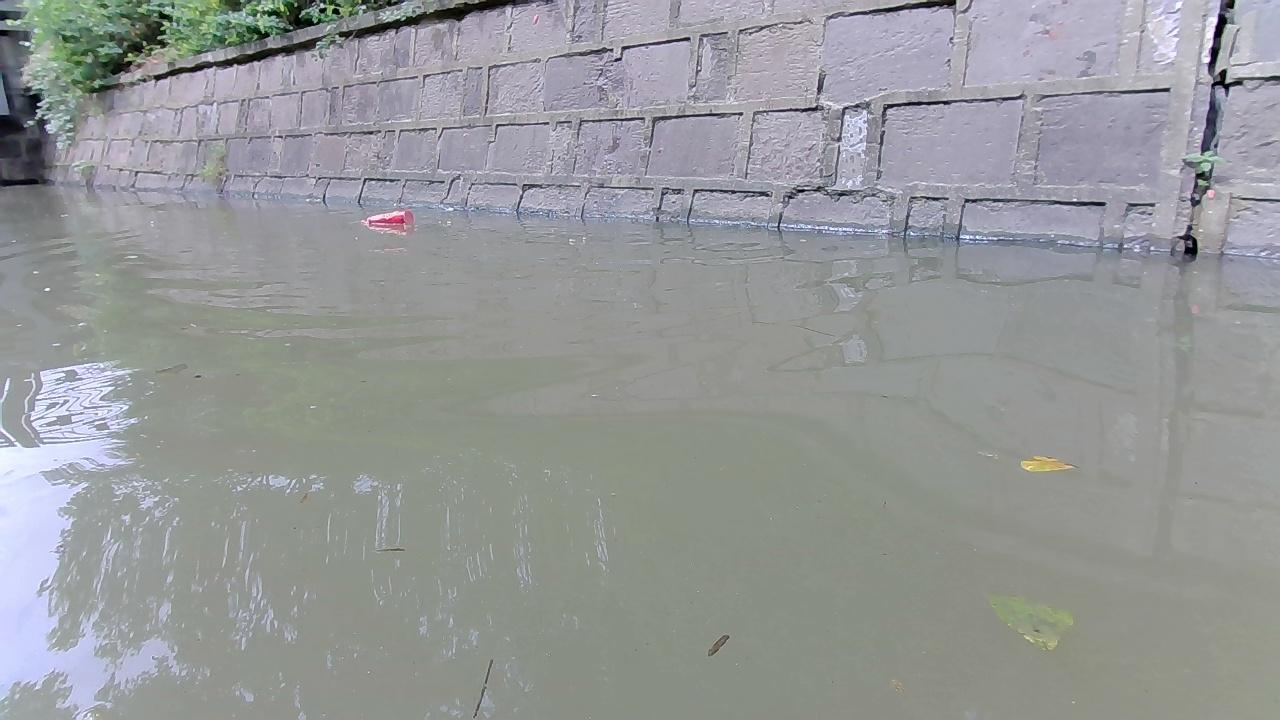bottle: (355, 203, 417, 227)
